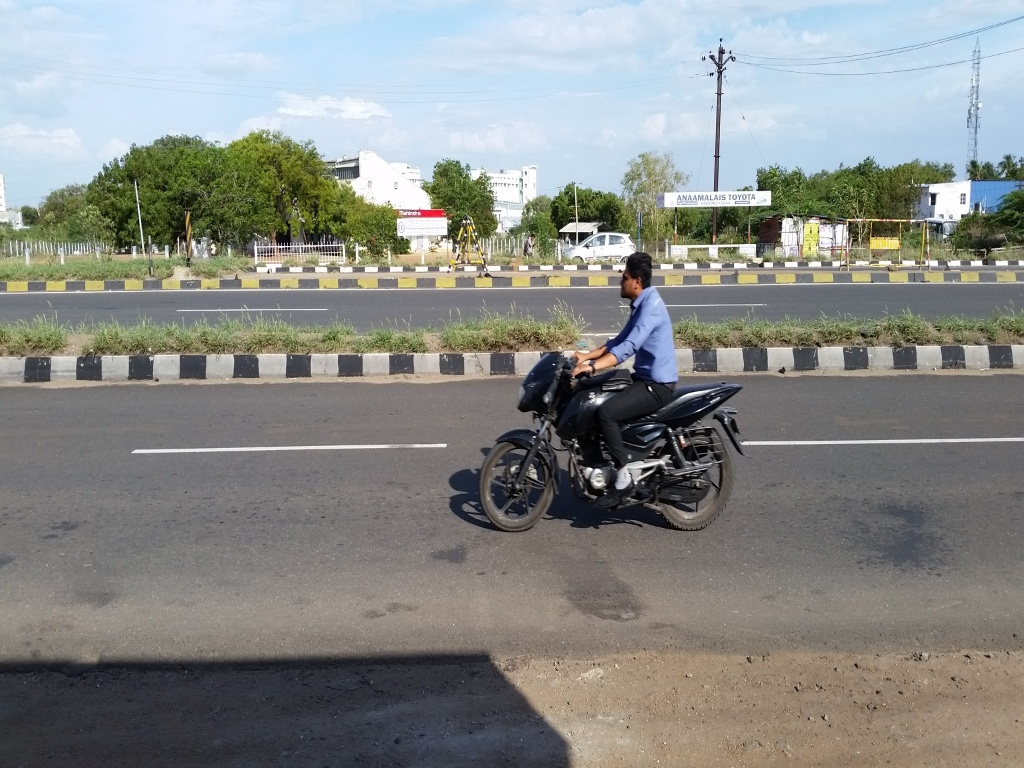biker: (465, 212, 763, 542)
nohelmet: (607, 240, 668, 316)
